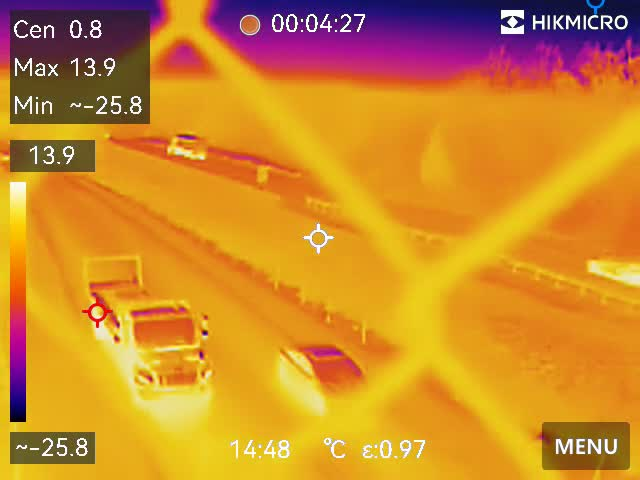heavyTruck: (75, 248, 225, 435)
smallCar: (275, 328, 377, 428)
